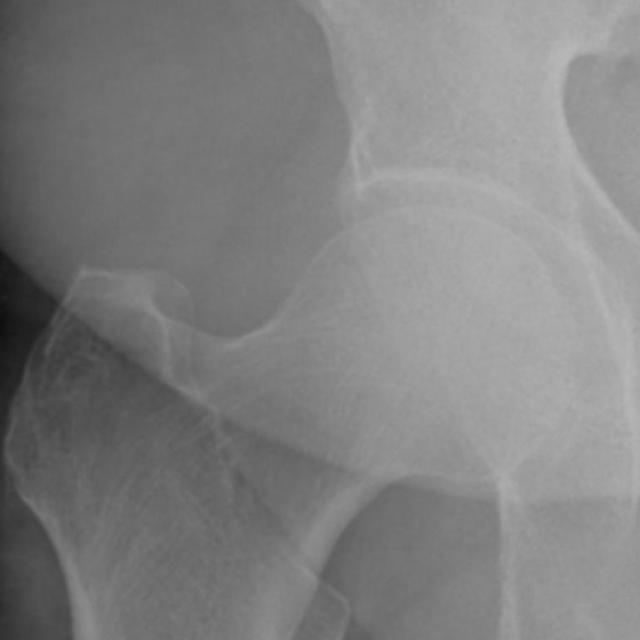Fitted_femural_head: (276, 206, 432, 276)
